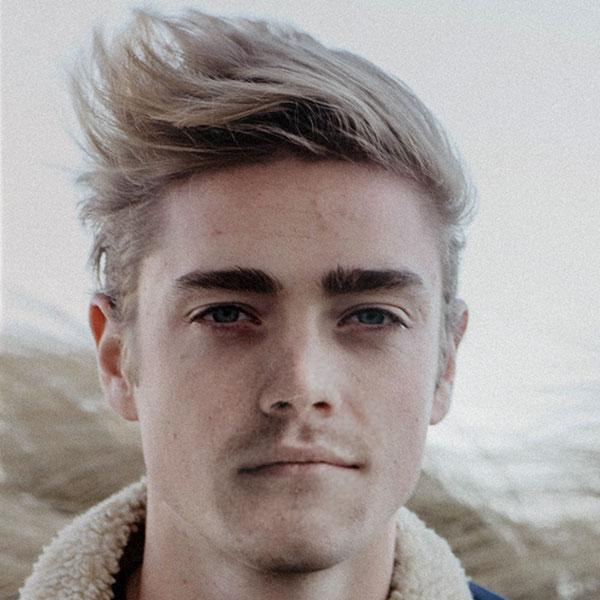Eyes: (328, 285, 417, 348), (178, 287, 272, 344)
